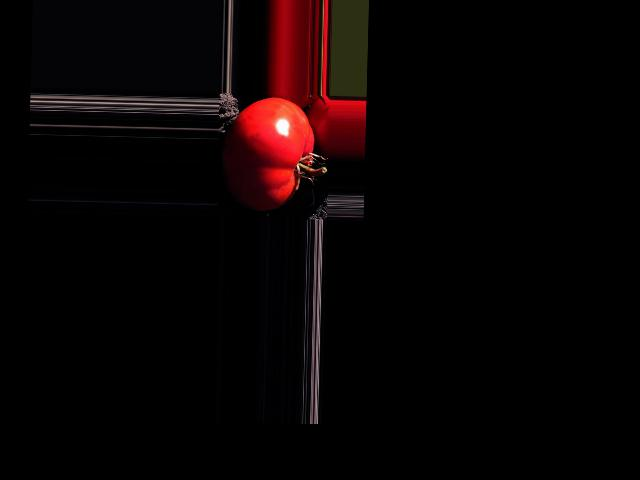tomato: (220, 96, 314, 212)
